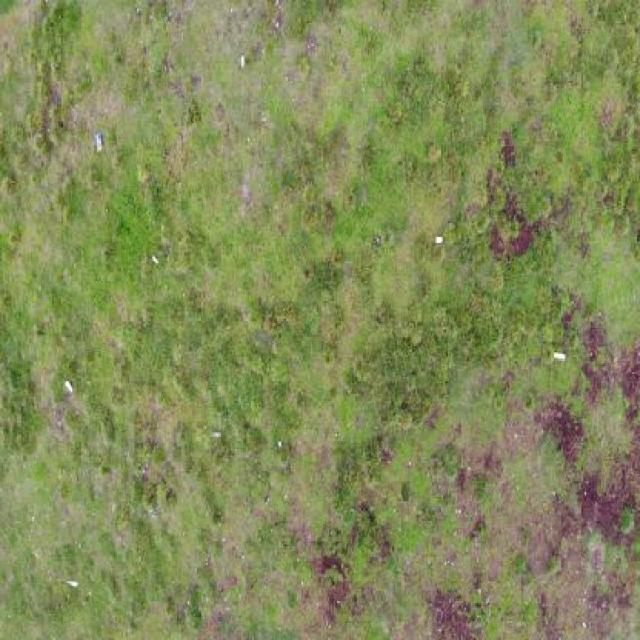Garbage: (93, 130, 104, 153), (64, 376, 77, 393), (434, 233, 444, 246), (552, 352, 567, 360), (67, 581, 80, 589), (152, 254, 159, 266), (240, 54, 245, 68)
